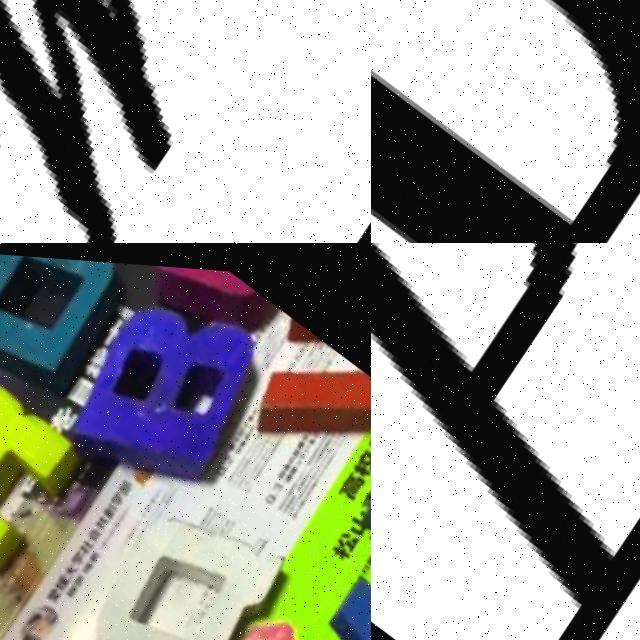B: (45, 264, 287, 514)
D: (371, 0, 640, 243), (0, 247, 147, 416)
F: (0, 249, 125, 298)
P: (371, 243, 640, 640)
Q: (57, 461, 303, 640)
R: (0, 356, 90, 585)
V: (247, 561, 371, 640)
W: (0, 0, 284, 226)
